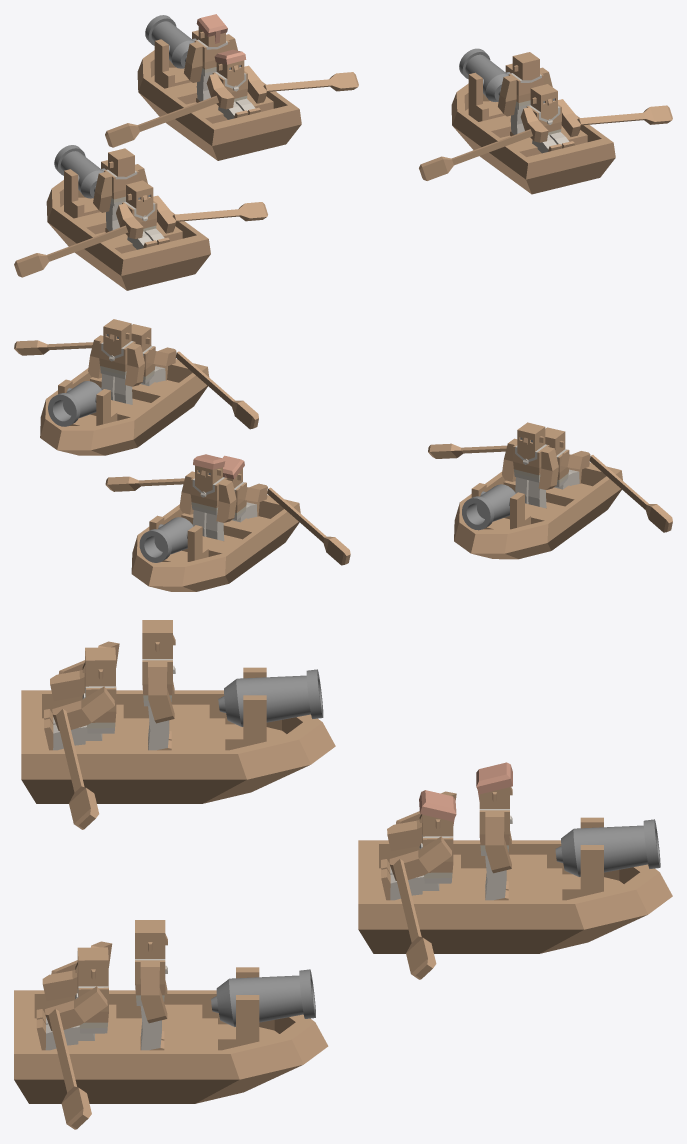
Rendered from boats.fbx.
3 views of the same model, one above another, from view 1: azimuth 30°, elevation 25°; view 2: azimuth 150°, elevation 25°; view 3: azimuth 270°, elevation 25° (orthographic). The views are drawn at different scales.
Visible parts, largest first — view 1: boat.002, boat, boat.001, barrel.001, barrel, barrel.002, paddle.003, paddle.004, paddle, cannon.002, cannon, cannon.001 (+23 smaller); view 2: boat, boat.001, boat.002, barrel.002, barrel, barrel.001, paddle, paddle.004, paddle.003, cannon.001, cannon, cannon.002 (+20 smaller); view 3: boat, boat.001, boat.002, barrel.001, barrel, barrel.002, cannon.001, cannon, cannon.002, paddle.005, paddle.002, paddle.001 (+21 smaller).
Boxes of the visible parts, left/top/right/bottom form: boat.002: left=451, top=83, right=615, bottom=194; boat: left=137, top=50, right=301, bottom=160; boat.001: left=46, top=180, right=210, bottom=290; barrel.001: left=54, top=145, right=103, bottom=198; barrel: left=145, top=15, right=194, bottom=68; barrel.002: left=459, top=48, right=508, bottom=101; paddle.003: left=14, top=225, right=128, bottom=277; paddle.004: left=419, top=129, right=532, bottom=180; paddle: left=105, top=95, right=218, bottom=147; cannon.002: left=468, top=63, right=512, bottom=121; cannon: left=154, top=30, right=198, bottom=88; cannon.001: left=64, top=160, right=107, bottom=218; boat: left=131, top=495, right=300, bottom=591; boat.001: left=454, top=462, right=622, bottom=559; boat.002: left=40, top=359, right=209, bottom=455; barrel.002: left=48, top=381, right=101, bottom=426; barrel: left=139, top=517, right=193, bottom=562; barrel.001: left=462, top=484, right=515, bottom=530; paddle: left=267, top=487, right=350, bottom=565; paddle.004: left=175, top=351, right=258, bottom=429; paddle.003: left=589, top=455, right=672, bottom=532; cannon.001: left=471, top=483, right=530, bottom=529; cannon: left=149, top=515, right=208, bottom=561; cannon.002: left=58, top=379, right=117, bottom=425; boat: left=358, top=840, right=672, bottom=953; boat.001: left=21, top=690, right=335, bottom=803; boat.002: left=14, top=990, right=328, bottom=1103; barrel.001: left=218, top=669, right=323, bottom=726; barrel: left=555, top=819, right=660, bottom=876; barrel.002: left=211, top=969, right=315, bottom=1026; cannon.001: left=225, top=667, right=266, bottom=750; cannon: left=562, top=817, right=603, bottom=900; cannon.002: left=218, top=967, right=259, bottom=1050; paddle.005: left=48, top=1009, right=91, bottom=1129; paddle.002: left=56, top=709, right=99, bottom=829; paddle.001: left=393, top=859, right=436, bottom=979.
Size of the model in its own units: 6416 by 995 by 3714.
